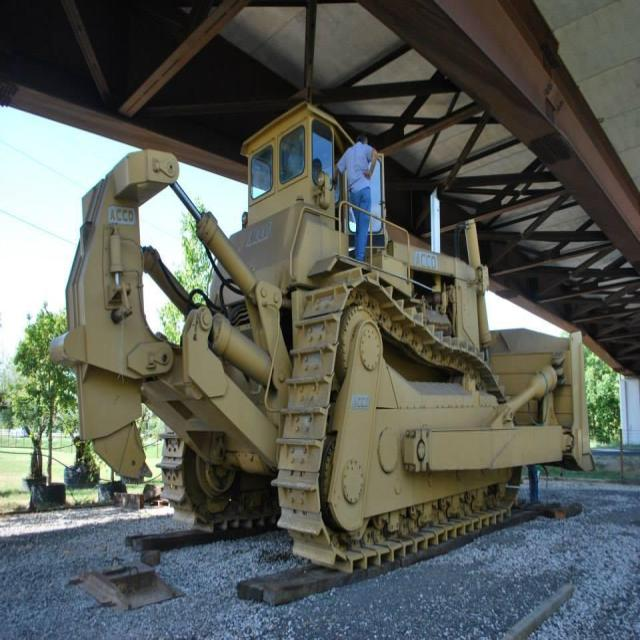buldozerpayloadergrader: (66, 88, 604, 583)
